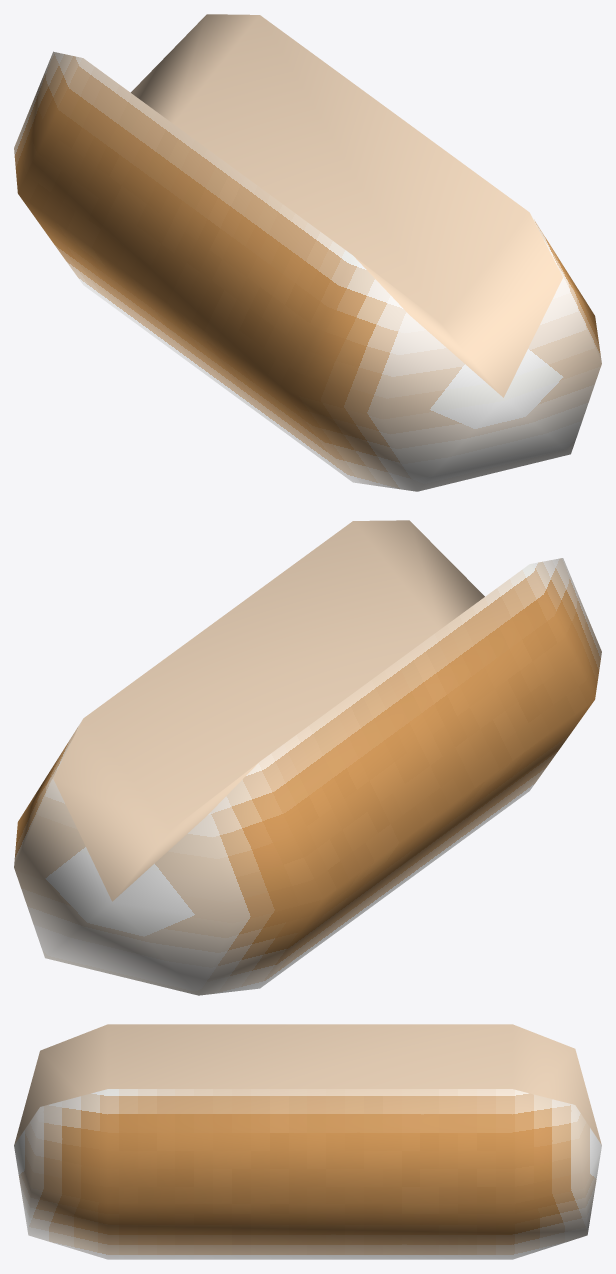
Rendered from HotdogBun.fbx.
3 views of the same model, one above another, from view 1: azimuth 30°, elevation 25°; view 2: azimuth 150°, elevation 25°; view 3: azimuth 270°, elevation 25° (orthographic). The views are drawn at different scales.
Visible parts, largest first — view 1: HotDog; view 2: HotDog; view 3: HotDog.
Part boxes in pixels (x1,y1,x2,y2): HotDog: (14,14,601,491); HotDog: (14,520,601,995); HotDog: (14,1024,601,1259).
Size of the model in its own units: 15.76 by 11.11 by 34.73.
